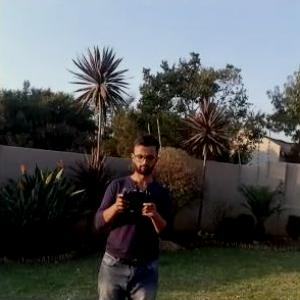follow: (84, 125, 178, 299)
